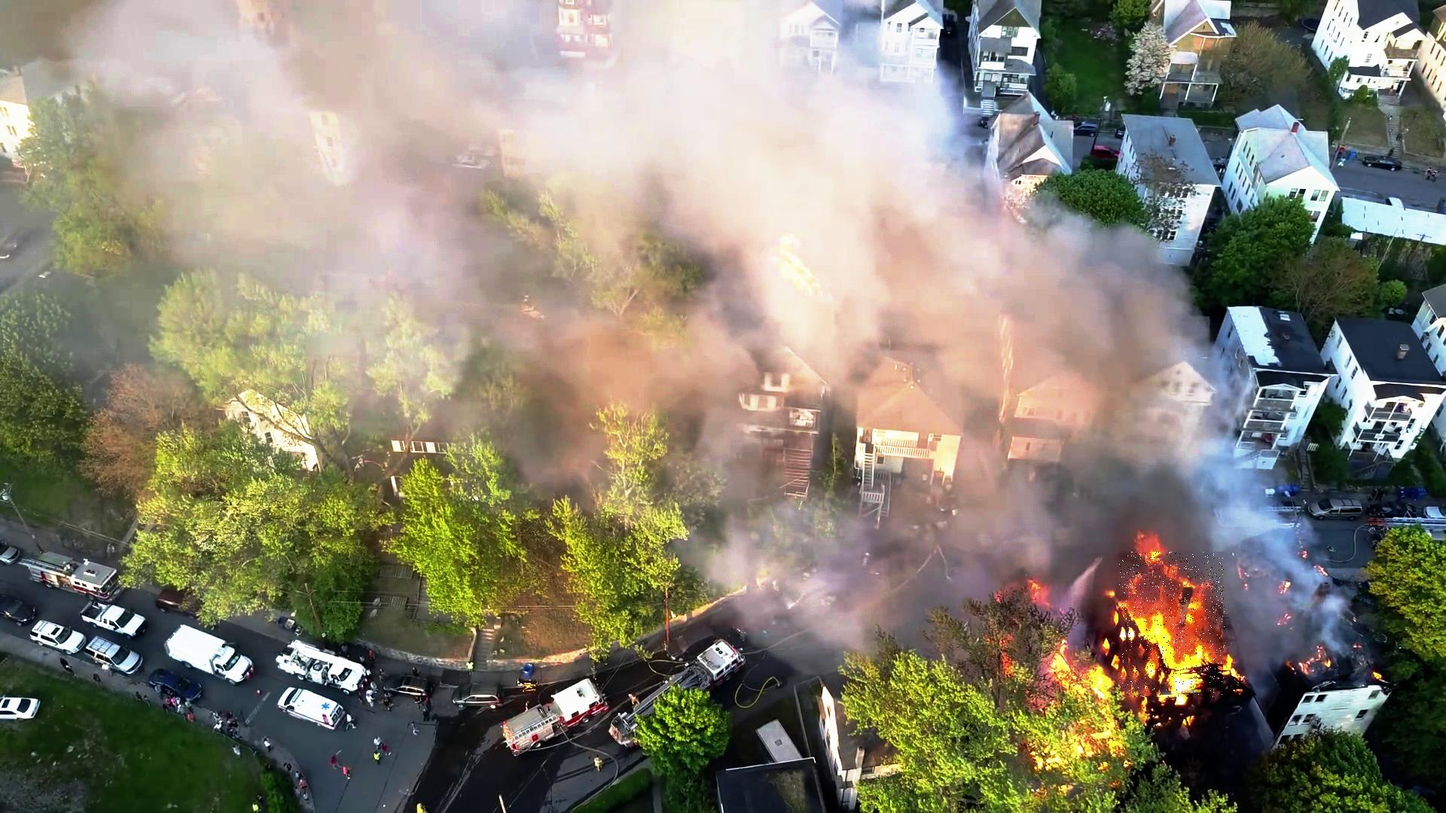fire: (1119, 552, 1225, 697)
